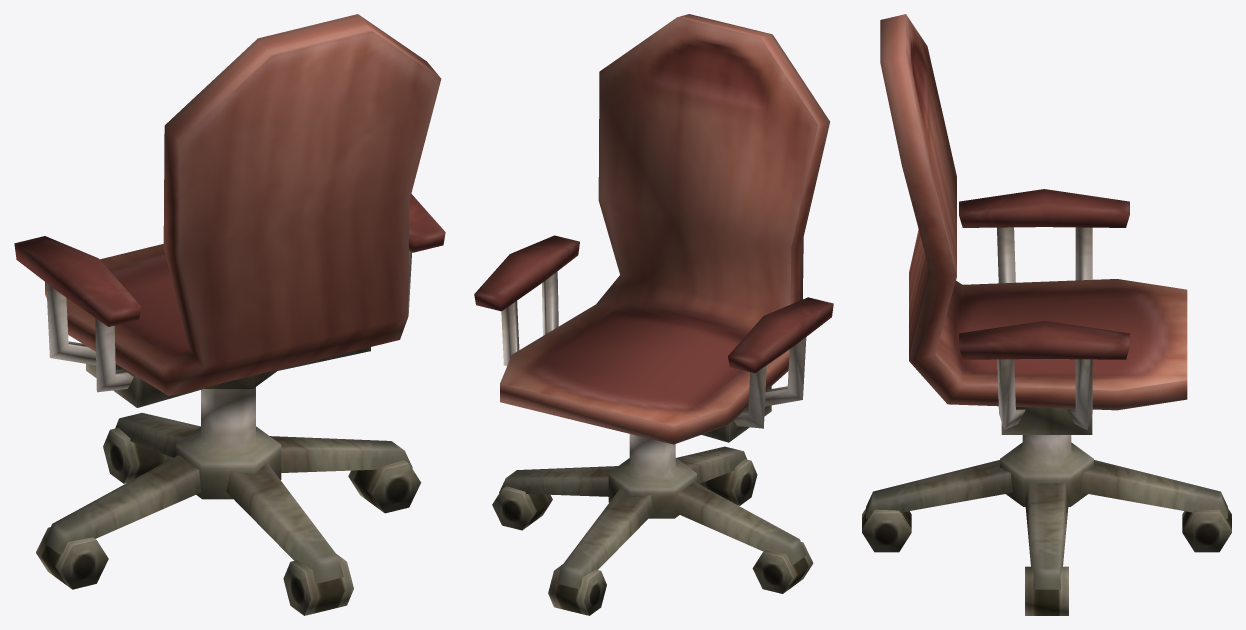
Rendered from c_SWIchair02a.glb.
3 views of the same model, side by side, from view 1: azimuth 30°, elevation 25°; view 2: azimuth 150°, elevation 25°; view 3: azimuth 270°, elevation 25° (orthographic). The views are drawn at different scales.
Parts seen in each view (by area): view 1: c_SWIchair02a; view 2: c_SWIchair02a; view 3: c_SWIchair02a.
Part boxes in pixels (x1=…): c_SWIchair02a: x1=14, y1=14, x2=445, y2=615; c_SWIchair02a: x1=474, y1=14, x2=833, y2=615; c_SWIchair02a: x1=862, y1=14, x2=1231, y2=615.
Bounding box in the file's own units: 0.8153 × 1.23 × 0.8153.
Materials: 1 (1 with a texture image).
